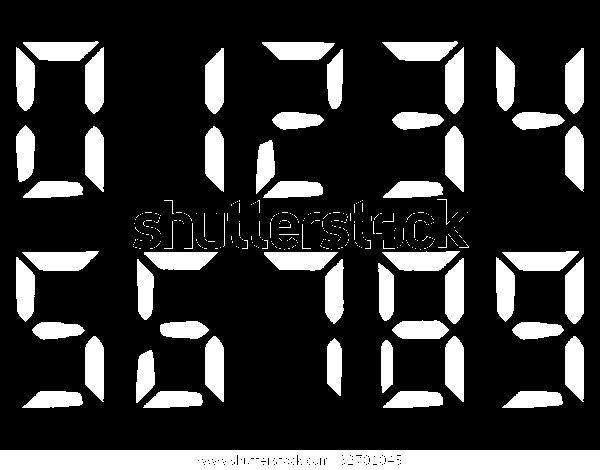eight: (378, 253, 464, 408)
five: (15, 252, 103, 407)
four: (494, 48, 586, 195)
nine: (495, 252, 583, 406)
one: (205, 46, 226, 190)
seven: (263, 252, 344, 396)
six: (137, 250, 224, 409)
three: (380, 40, 465, 196)
two: (257, 41, 344, 196)
zero: (14, 40, 103, 197)
